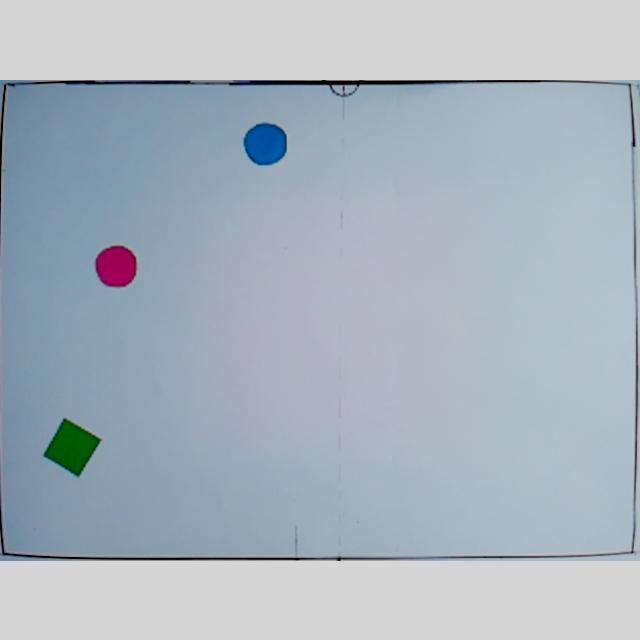blueCircle: (242, 120, 290, 166)
greenSquare: (44, 417, 102, 477)
pinkCircle: (94, 240, 138, 290)
